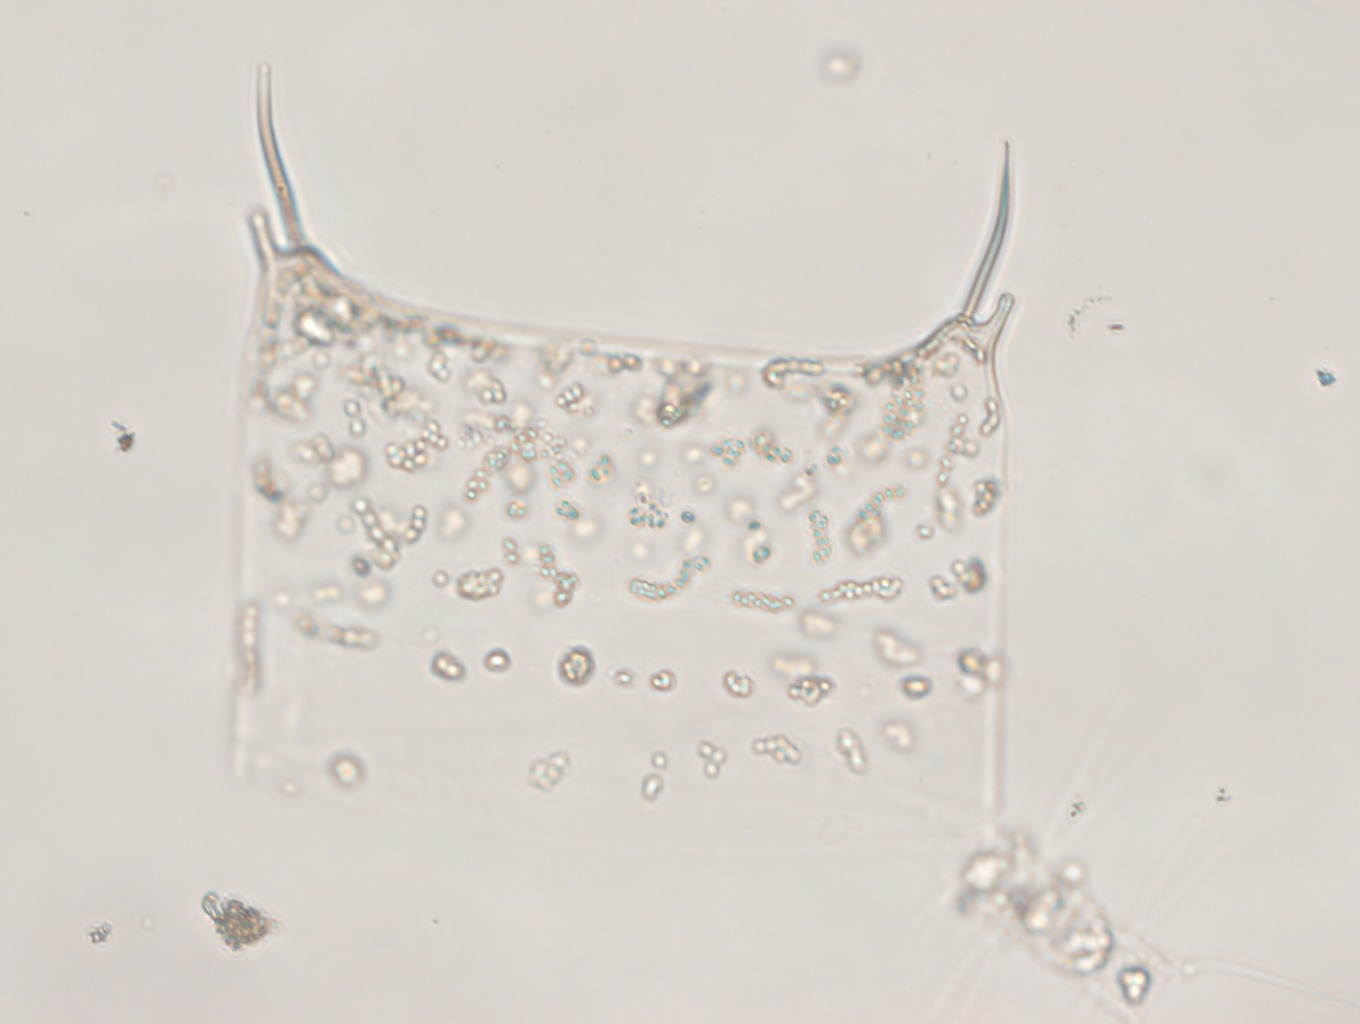chaetoceros: (922, 748, 1212, 1024)
ditylum: (235, 55, 1021, 869)
